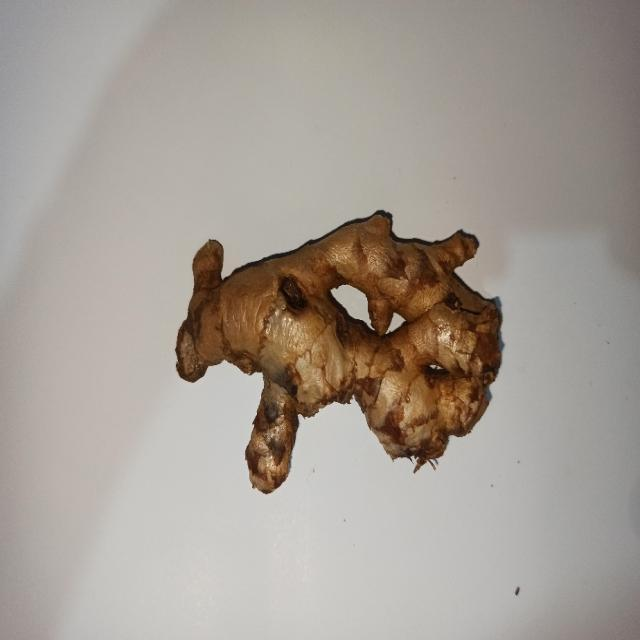ginger: (177, 210, 504, 492)
